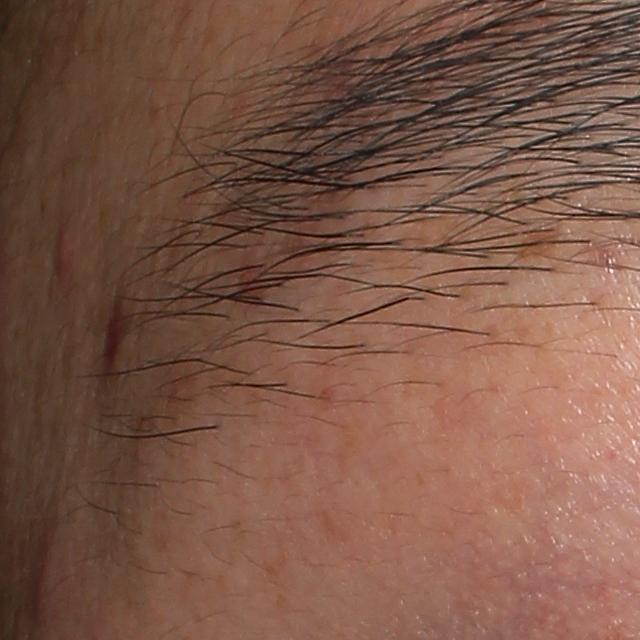papule: (31, 532, 69, 618), (41, 208, 81, 279)
